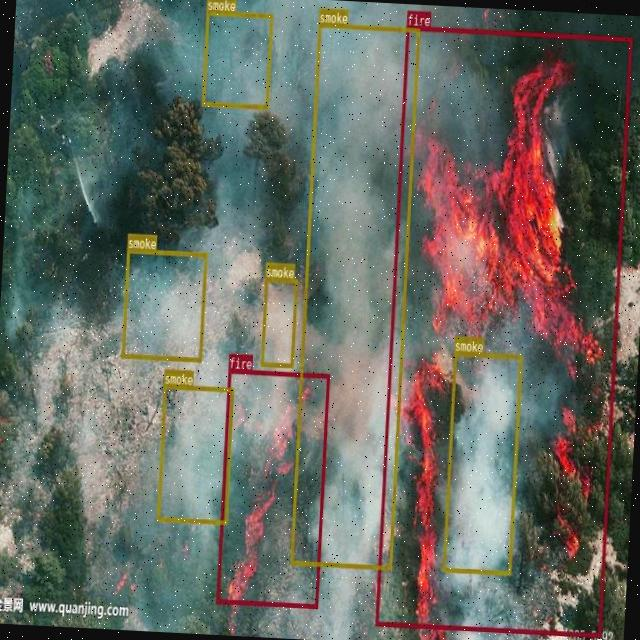fire: (375, 25, 632, 637), (216, 369, 329, 608)
smoke: (290, 22, 420, 570), (443, 351, 522, 574), (157, 384, 234, 524), (120, 248, 207, 362), (202, 10, 272, 109), (260, 277, 298, 368)
